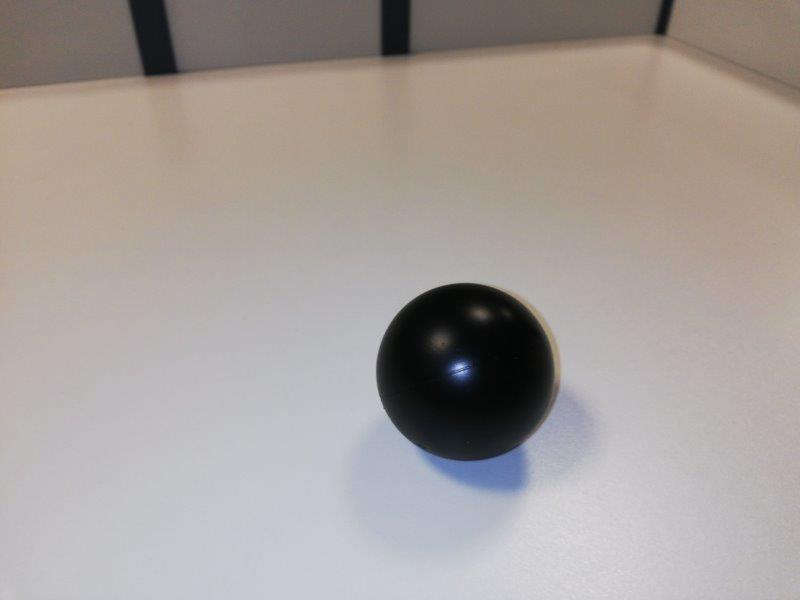nera: (372, 281, 556, 464)
